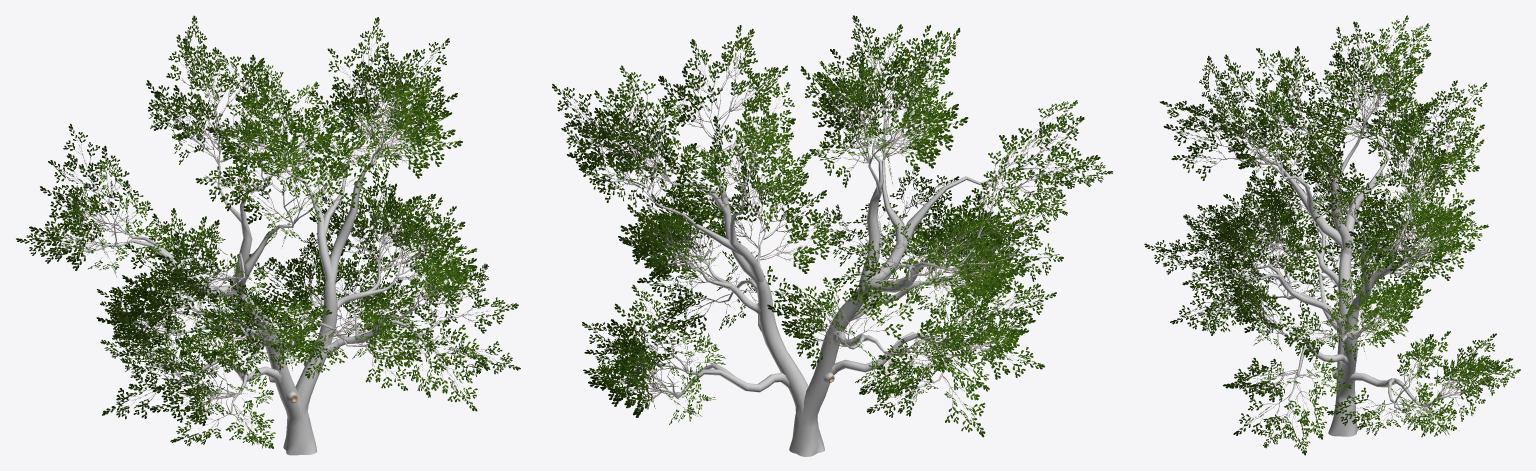
File: Oak.obj
The picture shows the model from 3 angles, left to right: view 1: azimuth 30°, elevation 25°; view 2: azimuth 150°, elevation 25°; view 3: azimuth 270°, elevation 25°; orthographic projection. The views are drawn at different scales.
Parts seen in each view (by area): view 1: oak leaf, mossybark02; view 2: oak leaf, mossybark02; view 3: oak leaf, mossybark02.
Part boxes in pixels (x1,y1,x2,y2): oak leaf: (16, 15, 520, 448); mossybark02: (72, 83, 459, 455); oak leaf: (552, 15, 1112, 437); mossybark02: (606, 81, 1050, 456); oak leaf: (1144, 15, 1520, 455); mossybark02: (1202, 60, 1472, 436).
Size of the model in its own units: 1072 by 926 by 831.
